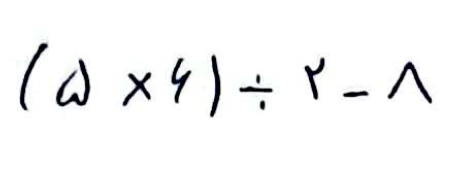character: (387, 60, 434, 105), (20, 41, 49, 112), (54, 58, 92, 107), (239, 73, 274, 111), (122, 71, 153, 106), (170, 56, 192, 105), (303, 56, 326, 101), (210, 55, 222, 116), (342, 90, 375, 103)
